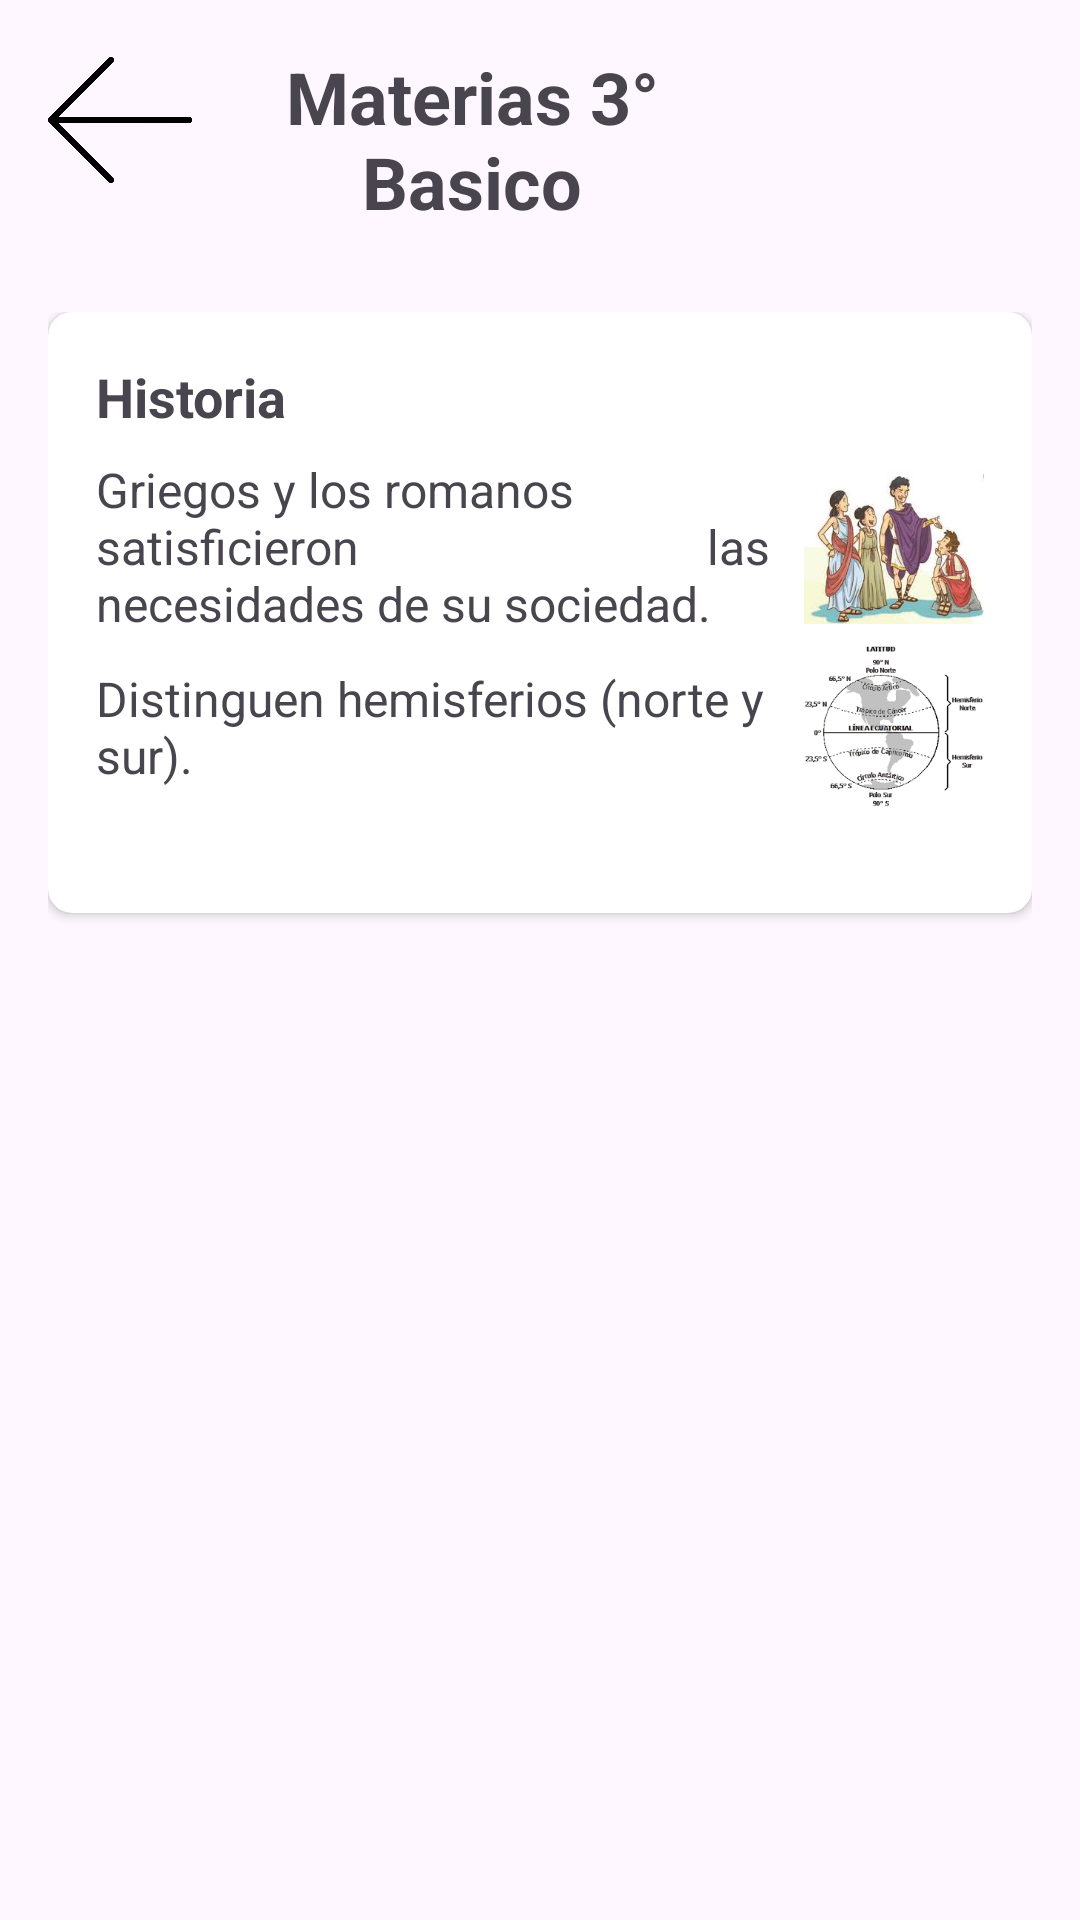

Named icons in this screenshot (1080×1920) and their centers, (x,y):
Botón de volver: (120,120)
surynortetercero: (894,726)
